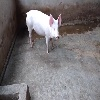heo: (24, 8, 63, 54)
